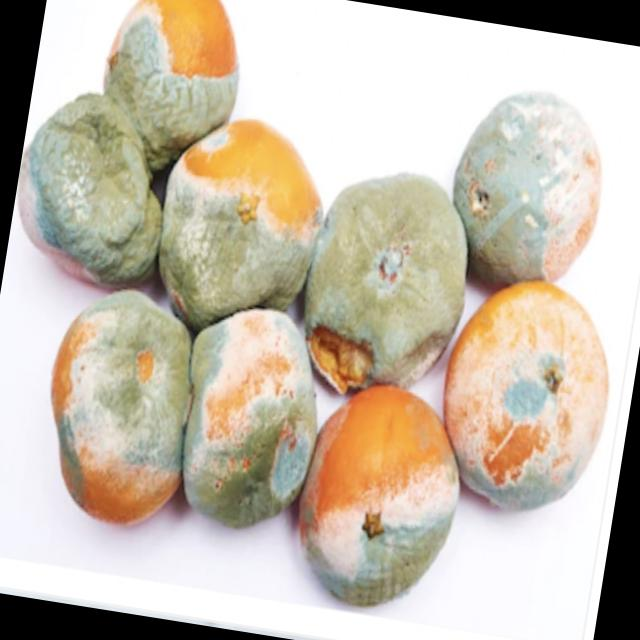rotten-orange: (427, 272, 625, 536), (284, 378, 476, 615), (28, 282, 205, 538), (170, 288, 337, 546), (297, 160, 483, 390), (148, 105, 334, 333), (443, 81, 624, 292), (23, 89, 177, 290), (94, 0, 255, 165)
